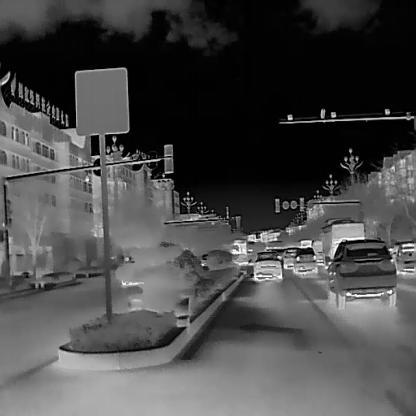car: (323, 238, 397, 310), (316, 217, 365, 271), (387, 242, 415, 276), (252, 251, 282, 280), (227, 237, 247, 275), (290, 246, 316, 273), (309, 237, 324, 264), (280, 247, 298, 268), (297, 238, 311, 246)
